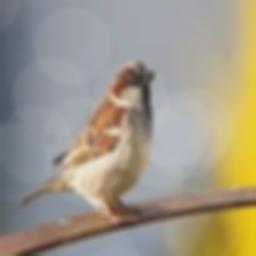Sparrow: (19, 61, 156, 224)
